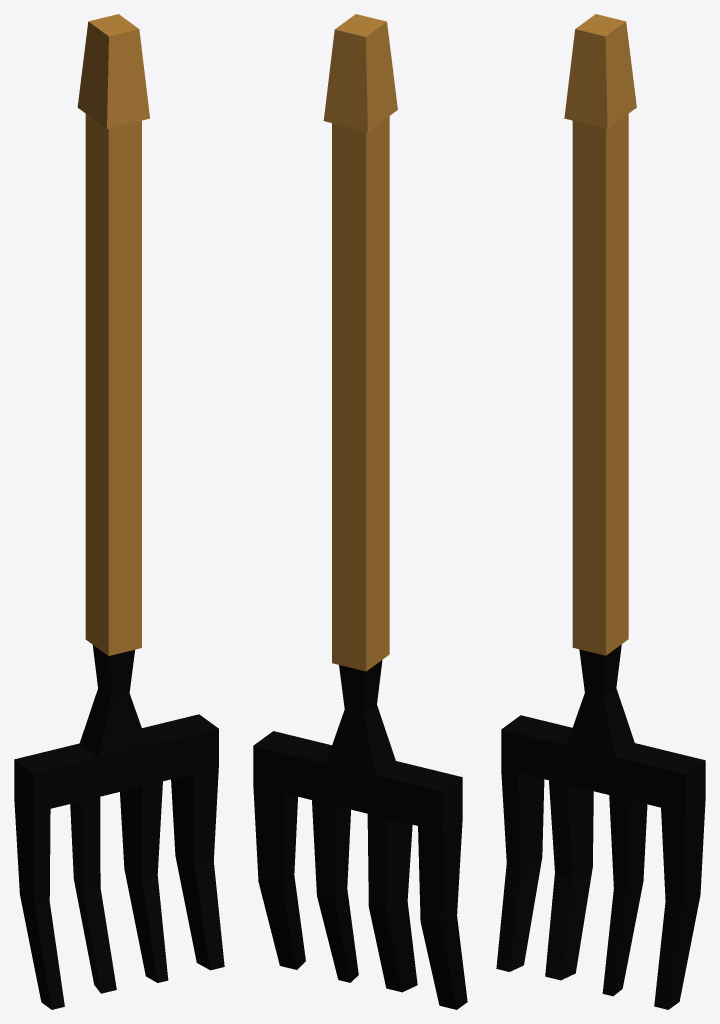
Rendered from pitchfork.glb.
3 views of the same model, side by side, from view 1: azimuth 30°, elevation 25°; view 2: azimuth 150°, elevation 25°; view 3: azimuth 330°, elevation 25° (orthographic). The views are drawn at different scales.
Parts seen in each view (by area): view 1: Cube; view 2: Cube; view 3: Cube.
Boxes of the visible parts, left/top/right/bottom form: Cube: left=14, top=14, right=224, bottom=1009; Cube: left=253, top=14, right=467, bottom=1009; Cube: left=496, top=14, right=705, bottom=1009.
Bounding box in the file's own units: 2 × 9.81 × 0.6781.
